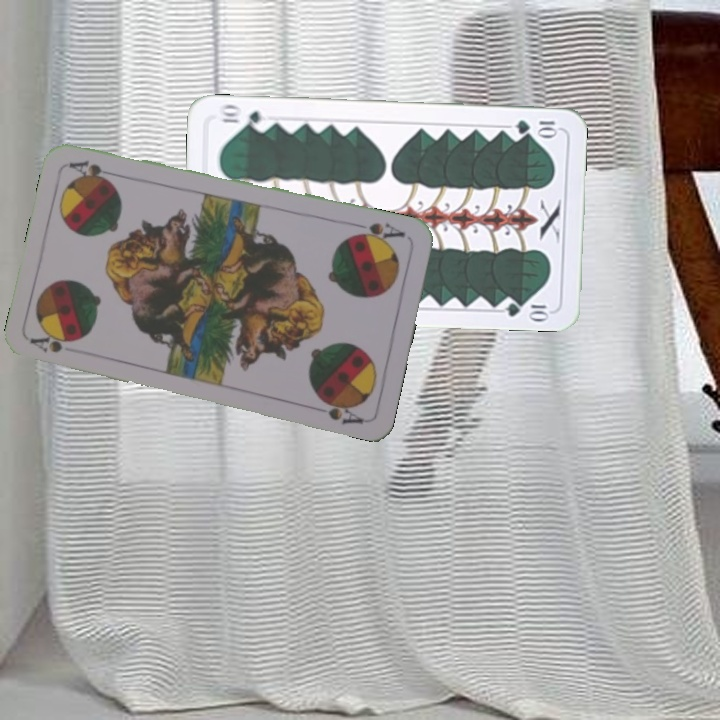G10: (512, 116, 560, 137)
SA: (349, 218, 408, 246), (27, 332, 77, 356)
